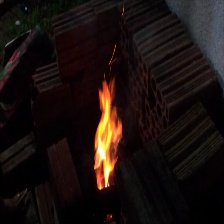fire: (85, 71, 126, 196)
